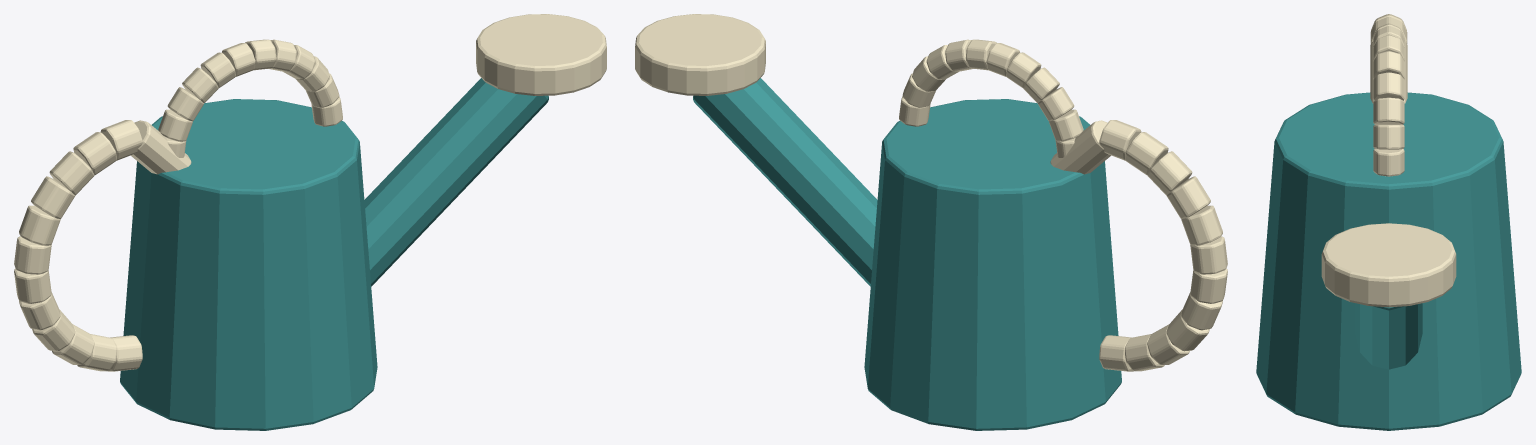
Rendered from P047_watering_can.glb.
3 views of the same model, side by side, from view 1: azimuth 30°, elevation 25°; view 2: azimuth 150°, elevation 25°; view 3: azimuth 270°, elevation 25° (orthographic). The views are drawn at different scales.
Visible parts, largest first — view 1: P047_body_001, P047_spout_015, P047_rose_016, P047_handle_anchor_014, P047_handle_006, P047_handle_004, P047_handle_005, P047_handle_003, P047_handle_007, P047_handle_002, P047_handle_008, P047_handle_009 (+15 smaller); view 2: P047_body_001, P047_spout_015, P047_rose_016, P047_handle_anchor_014, P047_handle_006, P047_handle_004, P047_handle_005, P047_handle_003, P047_handle_007, P047_handle_002, P047_handle_008, P047_handle_009 (+15 smaller); view 3: P047_body_001, P047_rose_016, P047_spout_015, P047_top_handle_019, P047_top_handle_017, P047_top_handle_018, P047_top_handle_020, P047_top_handle_021, P047_top_handle_022, P047_handle_anchor_014, P047_handle_002, P047_top_handle_023.
Boxes of the visible parts, x1,y1,x2,y2 form: P047_body_001: (120, 99, 377, 430); P047_spout_015: (364, 78, 548, 286); P047_rose_016: (476, 14, 606, 95); P047_handle_anchor_014: (131, 120, 191, 174); P047_handle_006: (19, 205, 60, 245); P047_handle_004: (49, 151, 94, 195); P047_handle_005: (31, 176, 75, 219); P047_handle_003: (73, 132, 116, 174); P047_handle_007: (14, 236, 51, 274); P047_handle_002: (100, 120, 142, 160); P047_handle_008: (14, 268, 51, 303); P047_handle_009: (19, 292, 60, 330); P047_body_001: (864, 99, 1121, 430); P047_spout_015: (693, 78, 877, 286); P047_rose_016: (635, 14, 765, 95); P047_handle_anchor_014: (1050, 120, 1110, 174); P047_handle_006: (1181, 205, 1222, 245); P047_handle_004: (1147, 151, 1192, 195); P047_handle_005: (1166, 176, 1210, 219); P047_handle_003: (1125, 132, 1168, 174); P047_handle_007: (1190, 236, 1227, 274); P047_handle_002: (1099, 120, 1141, 160); P047_handle_008: (1190, 268, 1227, 303); P047_handle_009: (1181, 292, 1222, 330); P047_body_001: (1256, 92, 1521, 430); P047_rose_016: (1321, 223, 1456, 307); P047_spout_015: (1355, 303, 1422, 369); P047_top_handle_019: (1373, 97, 1404, 124); P047_top_handle_017: (1373, 149, 1404, 176); P047_top_handle_018: (1373, 124, 1404, 149); P047_top_handle_020: (1373, 72, 1404, 100); P047_top_handle_021: (1373, 51, 1404, 78); P047_top_handle_022: (1373, 35, 1404, 60); P047_handle_anchor_014: (1370, 41, 1407, 103); P047_handle_002: (1370, 17, 1407, 43); P047_top_handle_023: (1373, 26, 1404, 47).
Bounding box in the file's own units: 0.5113 × 0.2814 × 0.1976.
